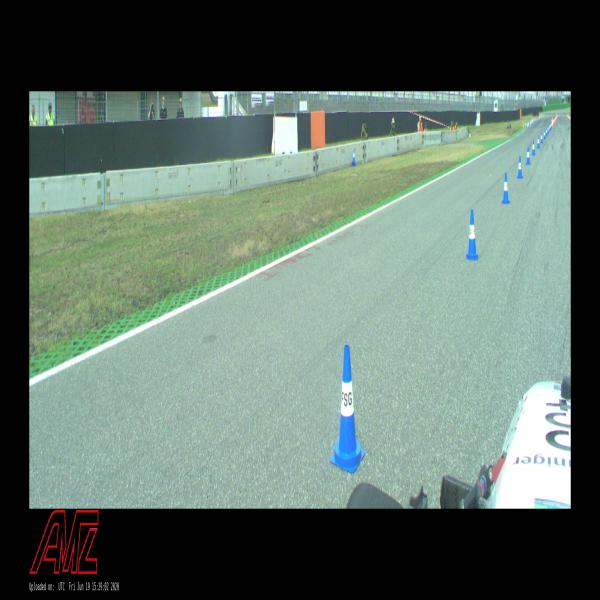blue_cone: (330, 344, 365, 474), (466, 209, 478, 260), (502, 172, 509, 204), (518, 157, 522, 178), (526, 148, 530, 164), (532, 141, 535, 154), (537, 136, 540, 148), (540, 133, 543, 143), (353, 150, 355, 164), (544, 130, 546, 140), (546, 128, 548, 136), (548, 126, 549, 134)
